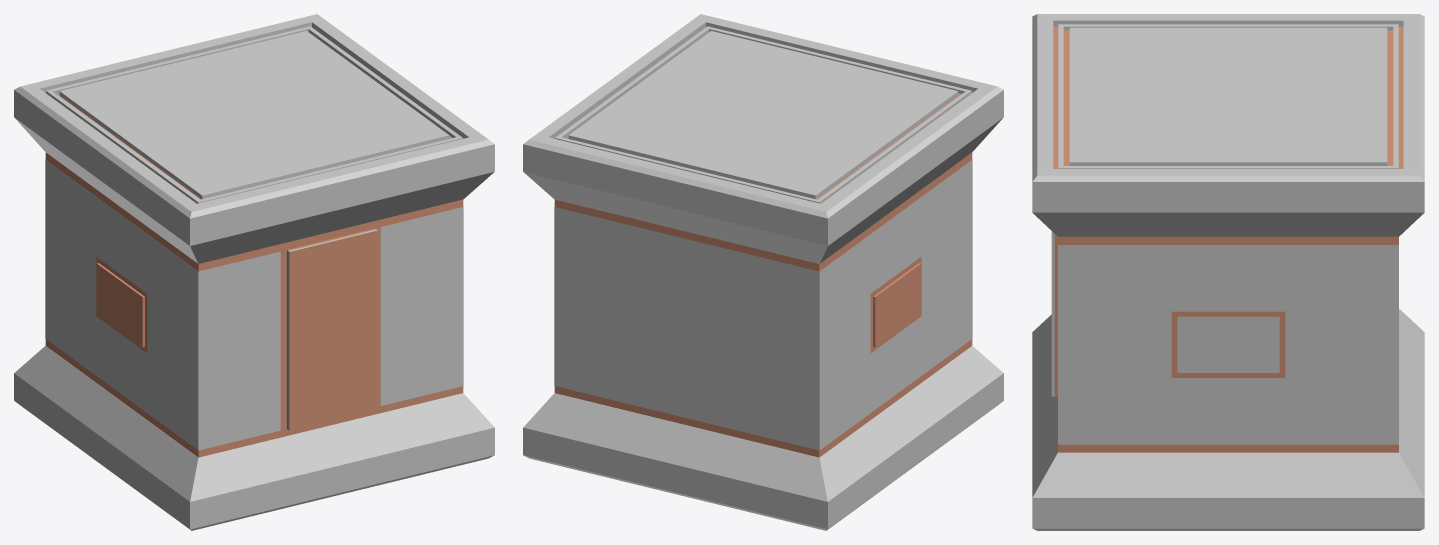
Rendered from Basic3_orig.fbx.
The picture shows the model from 3 angles, left to right: view 1: azimuth 30°, elevation 25°; view 2: azimuth 150°, elevation 25°; view 3: azimuth 270°, elevation 25°; orthographic projection. The views are drawn at different scales.
Parts seen in each view (by area): view 1: Cube.010; view 2: Cube.010; view 3: Cube.010.
Boxes of the visible parts, x1,y1,x2,y2 form: Cube.010: (14, 14, 494, 530); Cube.010: (523, 14, 1003, 530); Cube.010: (1032, 14, 1424, 530).
Size of the model in its own units: 100 by 100 by 100.
